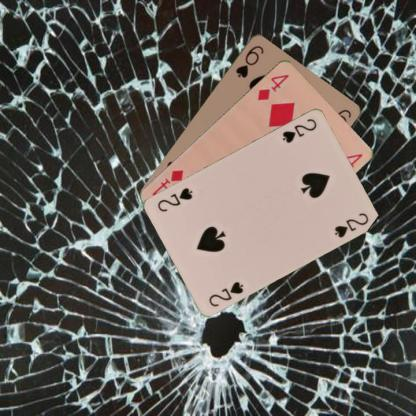2s: (206, 278, 245, 308), (280, 116, 318, 144)
4d: (255, 71, 290, 102)
6s: (233, 42, 265, 79)
